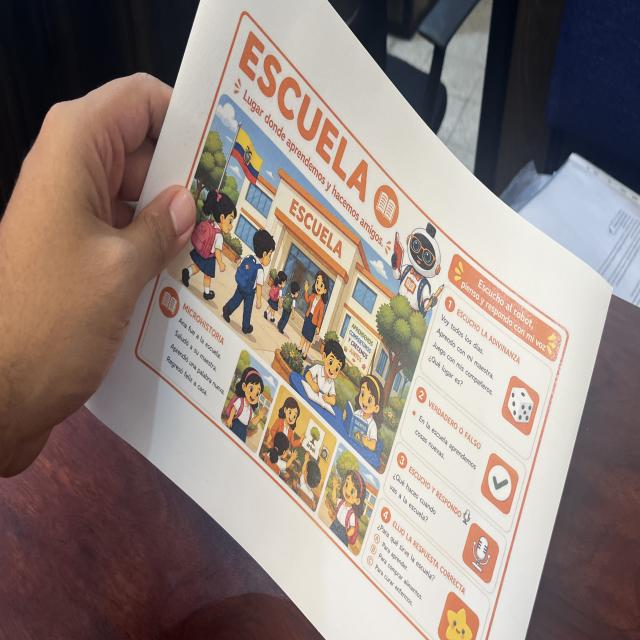escuela: (131, 4, 571, 640)
